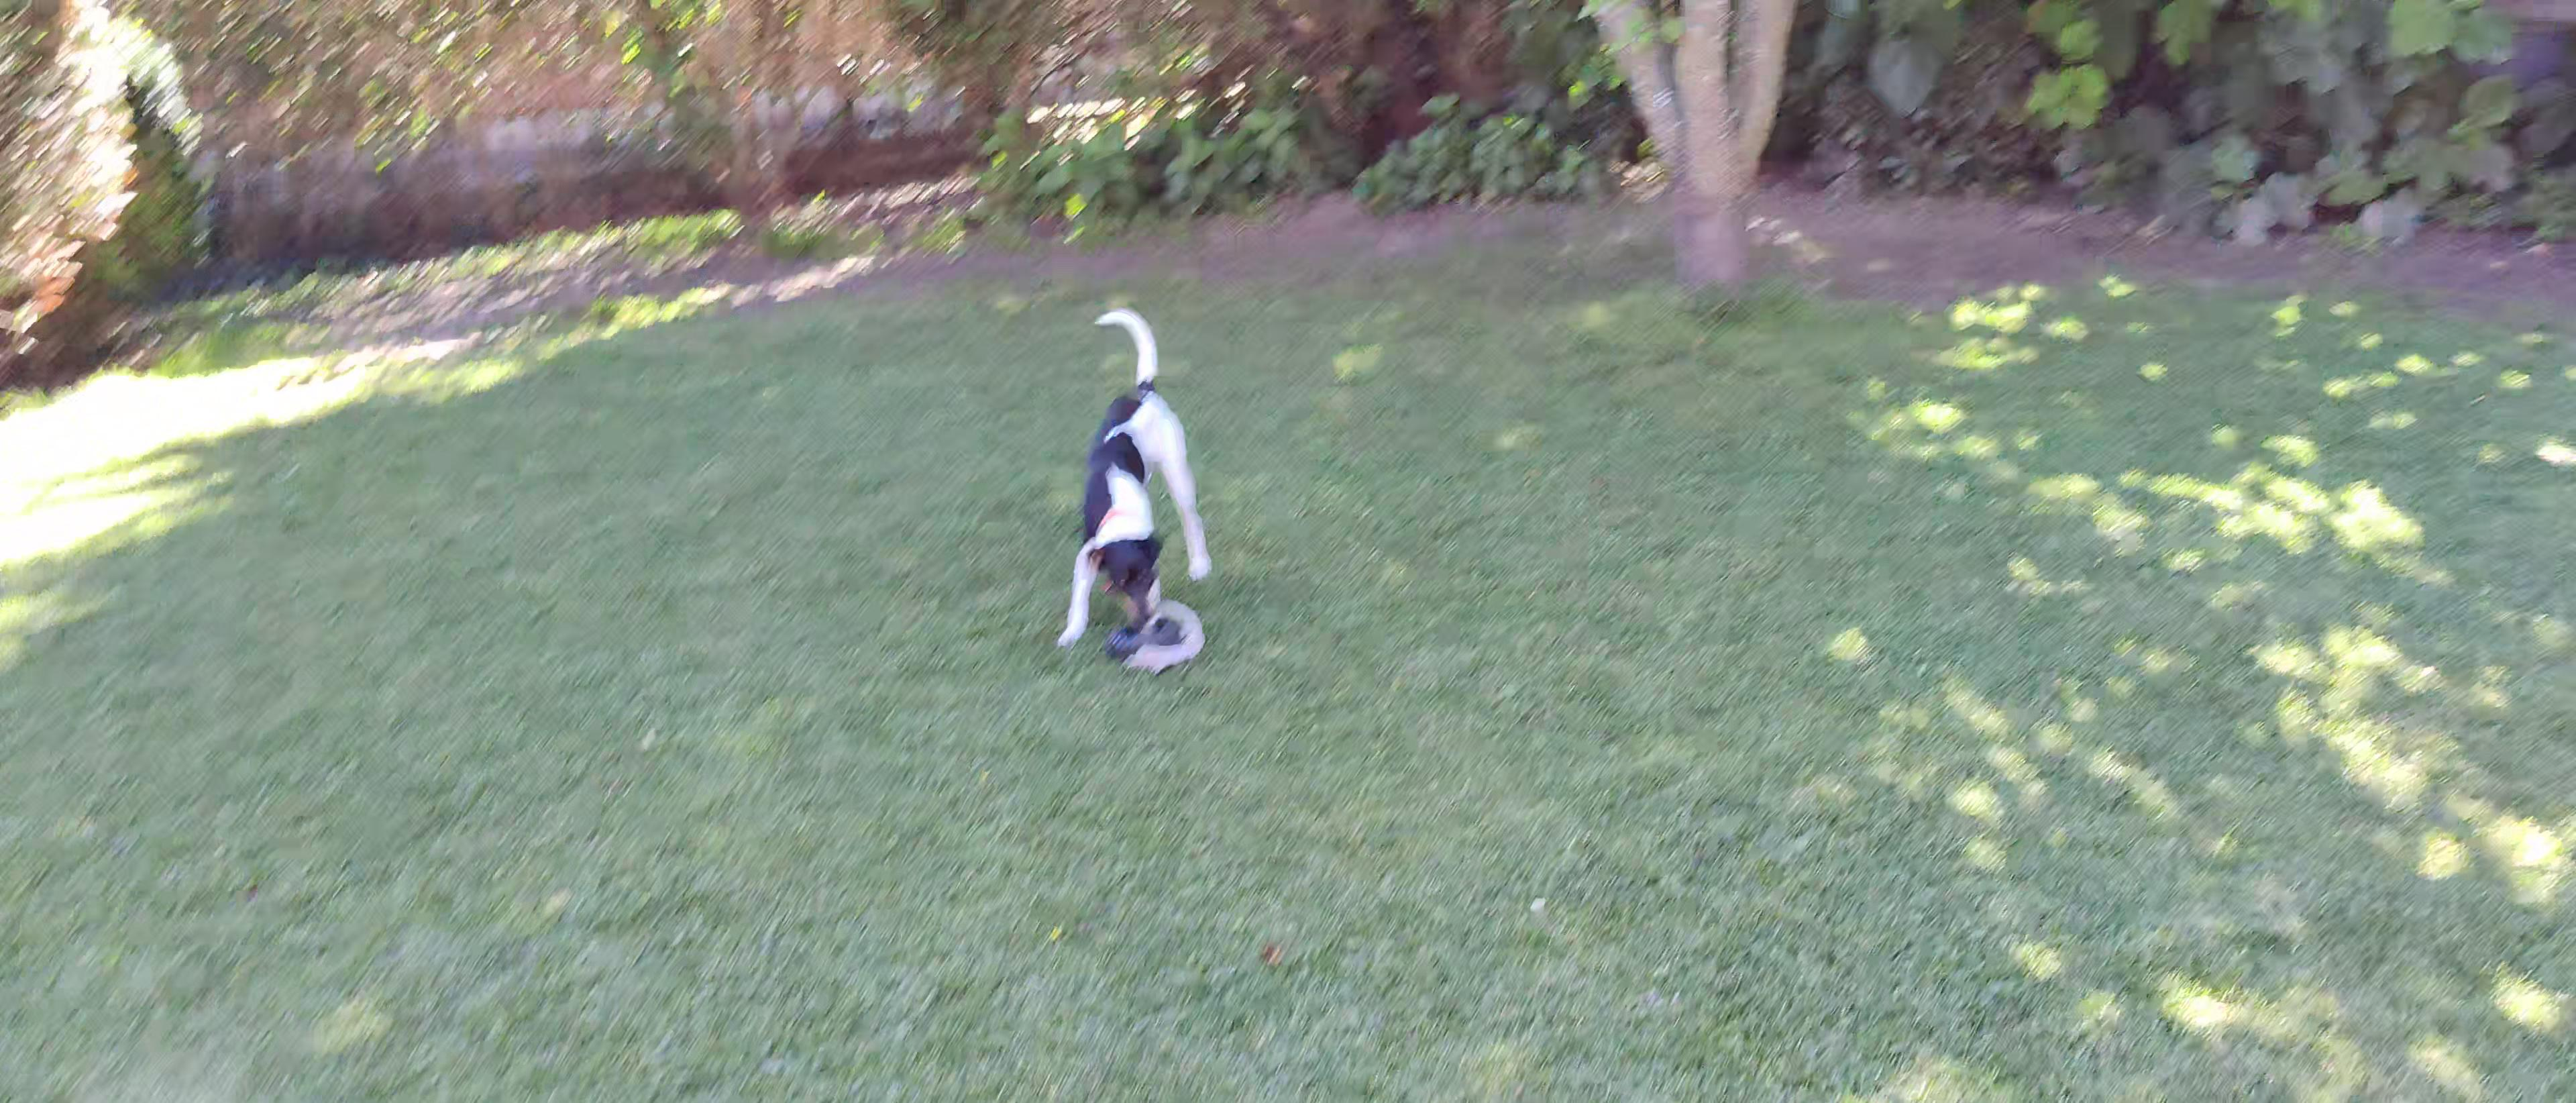Dog: (1050, 284, 1226, 651)
